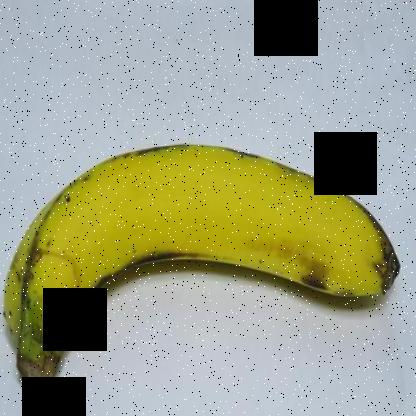freshripe: (1, 117, 404, 406)
